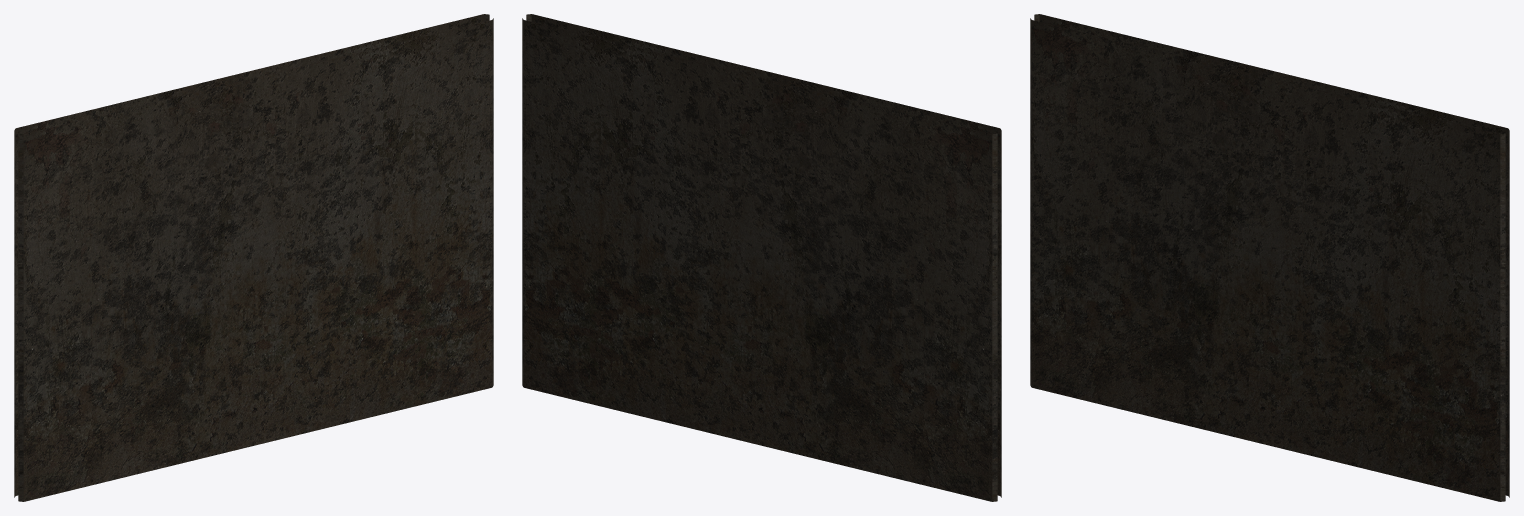
File: wall_1_plain.glb
The picture shows the model from 3 angles, left to right: view 1: azimuth 30°, elevation 25°; view 2: azimuth 150°, elevation 25°; view 3: azimuth 330°, elevation 25°; orthographic projection.
Parts seen in each view (by area): view 1: wall_1_plain; view 2: wall_1_plain; view 3: wall_1_plain.
Part boxes in pixels (box(x1,y1,x2,y2)): wall_1_plain: box(14, 14, 493, 501); wall_1_plain: box(522, 14, 1001, 501); wall_1_plain: box(1030, 14, 1509, 501).
Bounding box in the file's own units: 4.06 × 3 × 0.12.
Materials: 1 (1 with a texture image).
